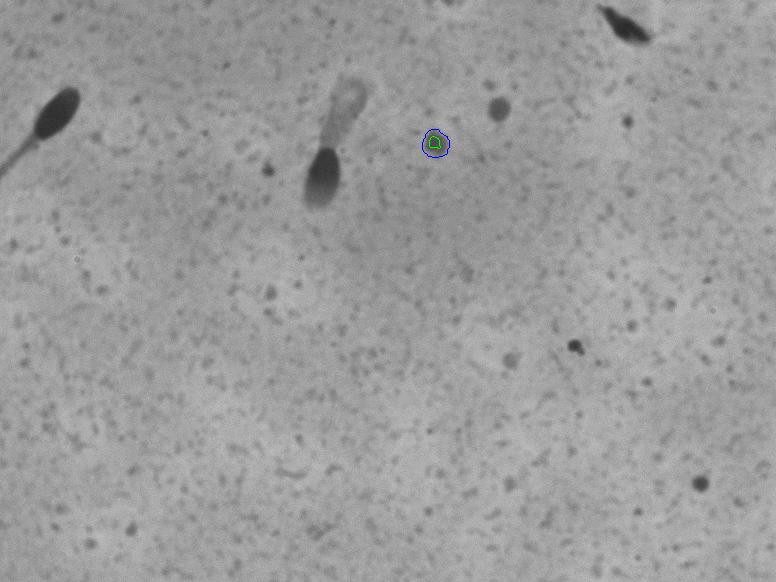Abnormal: (272, 47, 403, 244)
